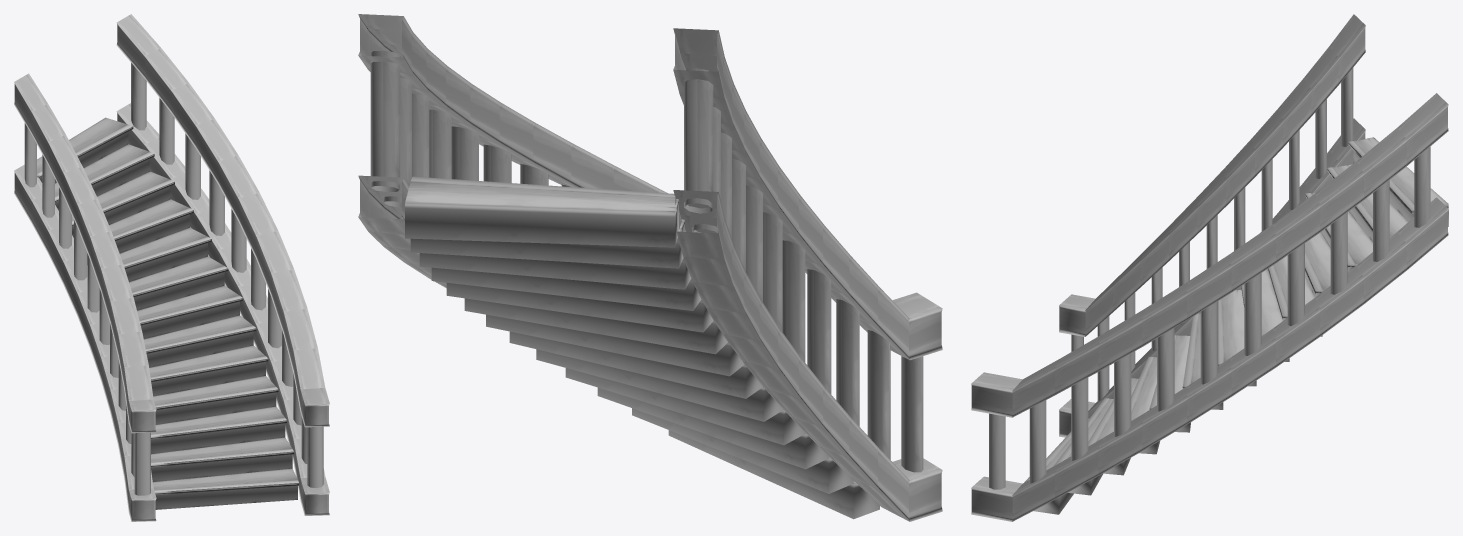
The model's file is staircase.fbx.
3 views of the same model, side by side, from view 1: azimuth 30°, elevation 25°; view 2: azimuth 150°, elevation 25°; view 3: azimuth 270°, elevation 25° (orthographic). The views are drawn at different scales.
Visible parts, largest first — view 1: pCube36; view 2: pCube36; view 3: pCube36.
Boxes of the visible parts, x1=… form: pCube36: x1=14, y1=14, x2=329, y2=521; pCube36: x1=358, y1=14, x2=942, y2=521; pCube36: x1=971, y1=14, x2=1448, y2=521.
Size of the model in its own units: 2.16 by 3.7 by 3.88.
